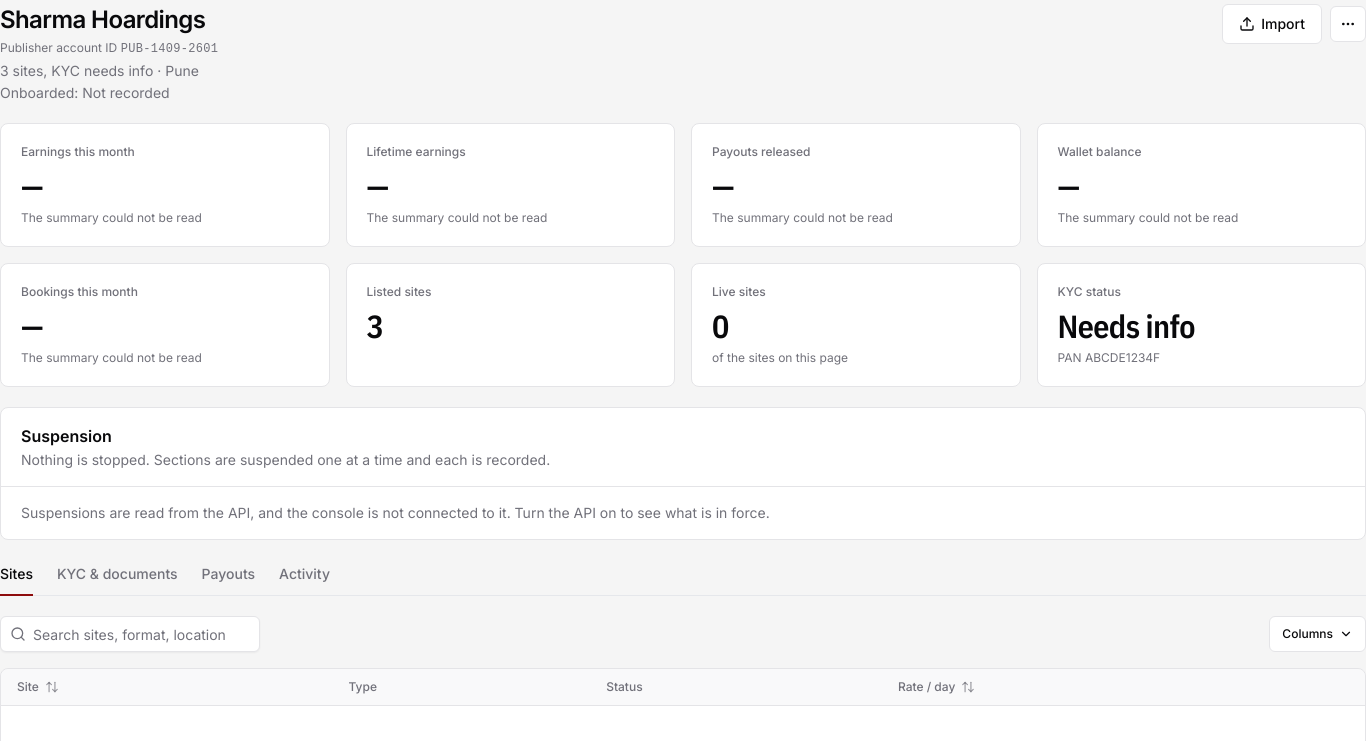
PublisherDetail over a publisher opened from the desk › names the contact person on a business, links the agent, and labels NEEDS_INFO
Expected: the text "3 sites, KYC needs info · Pune" is shown, left=0, top=62, right=199, bottom=79
Expected: the text "PAN ABCDE1234F" is shown, left=1058, top=350, right=1160, bottom=365
Press the mouse on the tab "KYC & documents": (117, 578) left=57, top=560, right=178, bottom=596
(page scrolled)
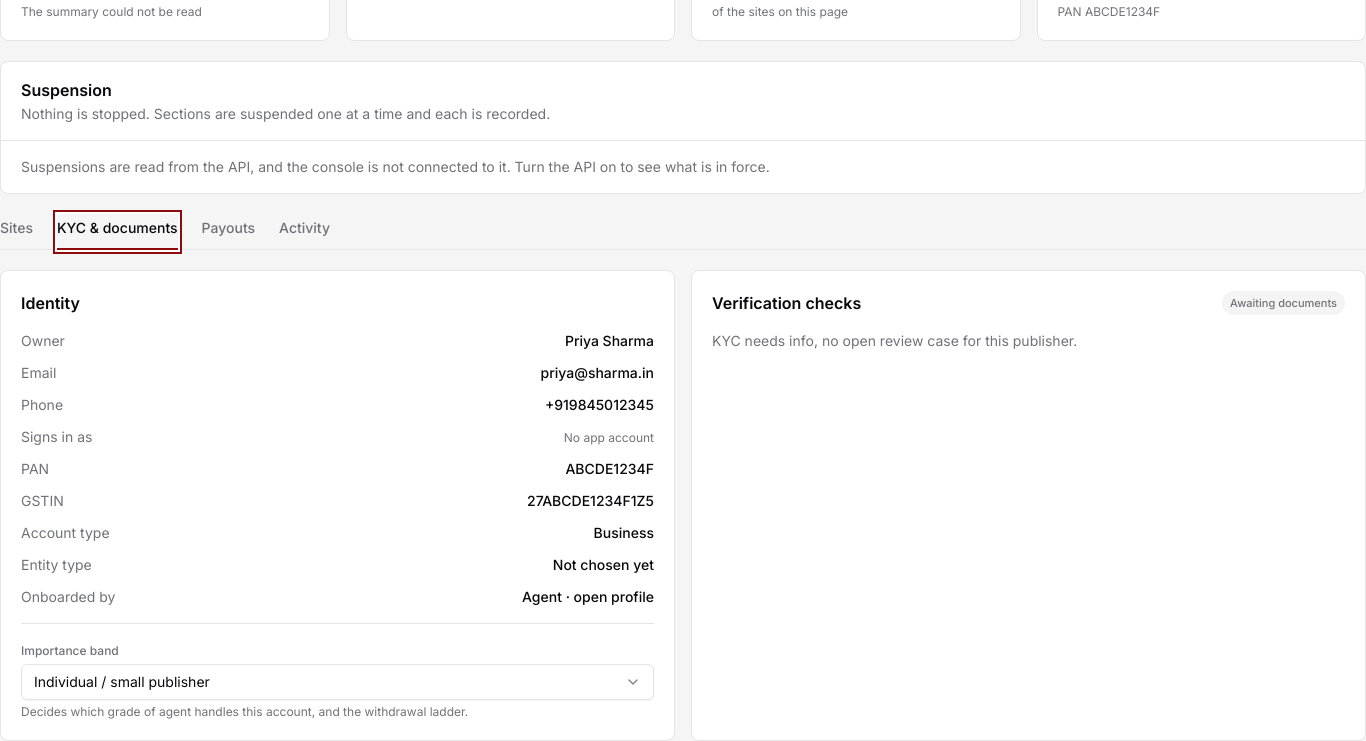
Expected: the text "Priya Sharma" is shown, left=565, top=331, right=654, bottom=351
Expected: the text "priya@sharma.in" is shown, left=540, top=363, right=654, bottom=383
Expected: the text "Business" is shown, left=594, top=523, right=654, bottom=543
